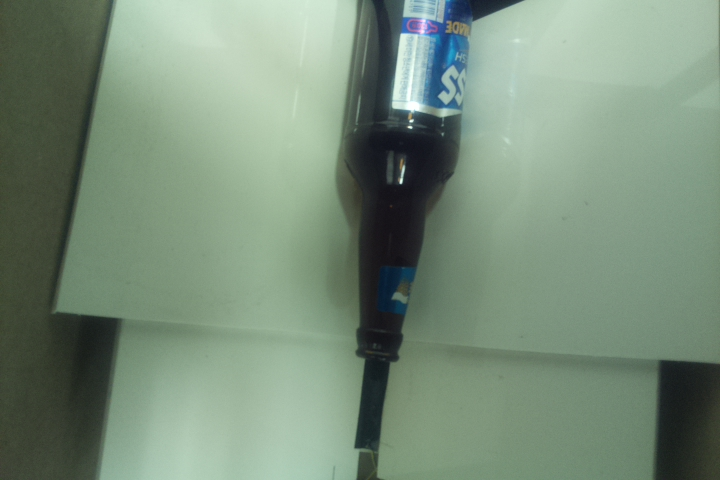makju: (334, 1, 473, 366)
